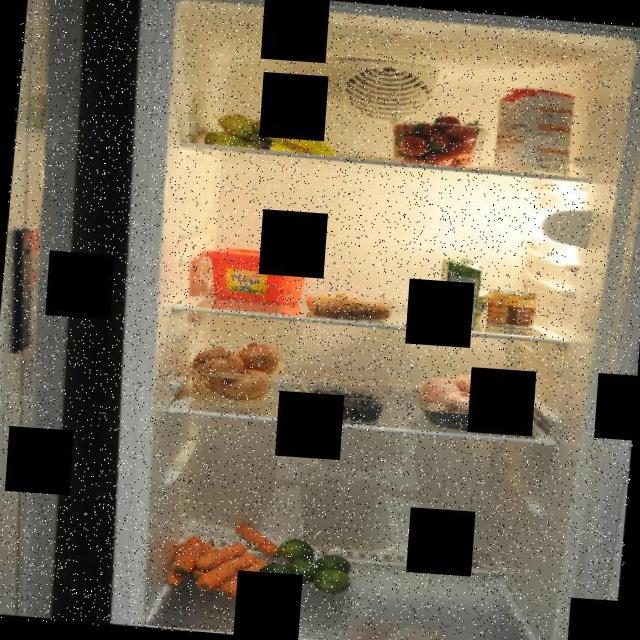Carne pollo: (412, 368, 544, 437)
Cebolla: (189, 336, 281, 404)
Gambas/Langostinos: (300, 289, 398, 320)
Mantequilla: (199, 242, 316, 308)
Plátano: (197, 108, 341, 160)
Zanahoria: (162, 514, 280, 600)
